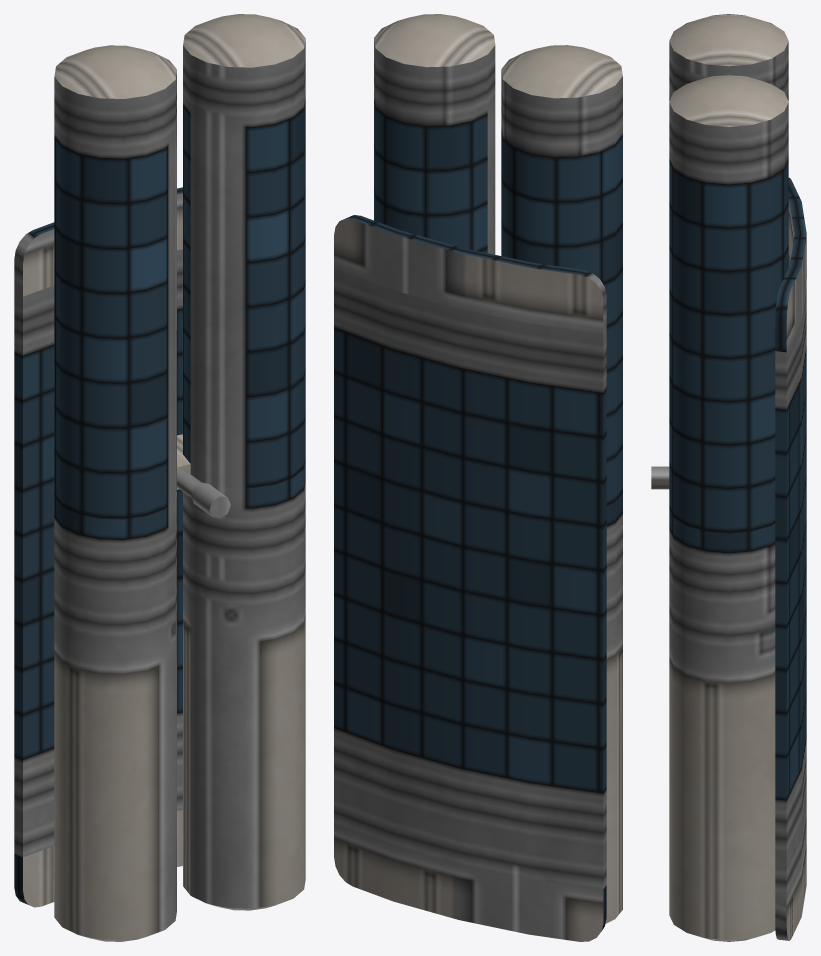
The model's file is double_short_rad.obj.
The picture shows the model from 3 angles, left to right: view 1: azimuth 30°, elevation 25°; view 2: azimuth 150°, elevation 25°; view 3: azimuth 270°, elevation 25°; orthographic projection. The views are drawn at different scales.
Visible parts, largest first — view 1: 1; view 2: 1; view 3: 1.
Part boxes in pixels (x1,y1,x2,y2): 1: (14, 14, 305, 941); 1: (334, 14, 622, 941); 1: (651, 14, 806, 941).
Bounding box in the file's own units: 0.6341 × 1.95 × 0.325.
